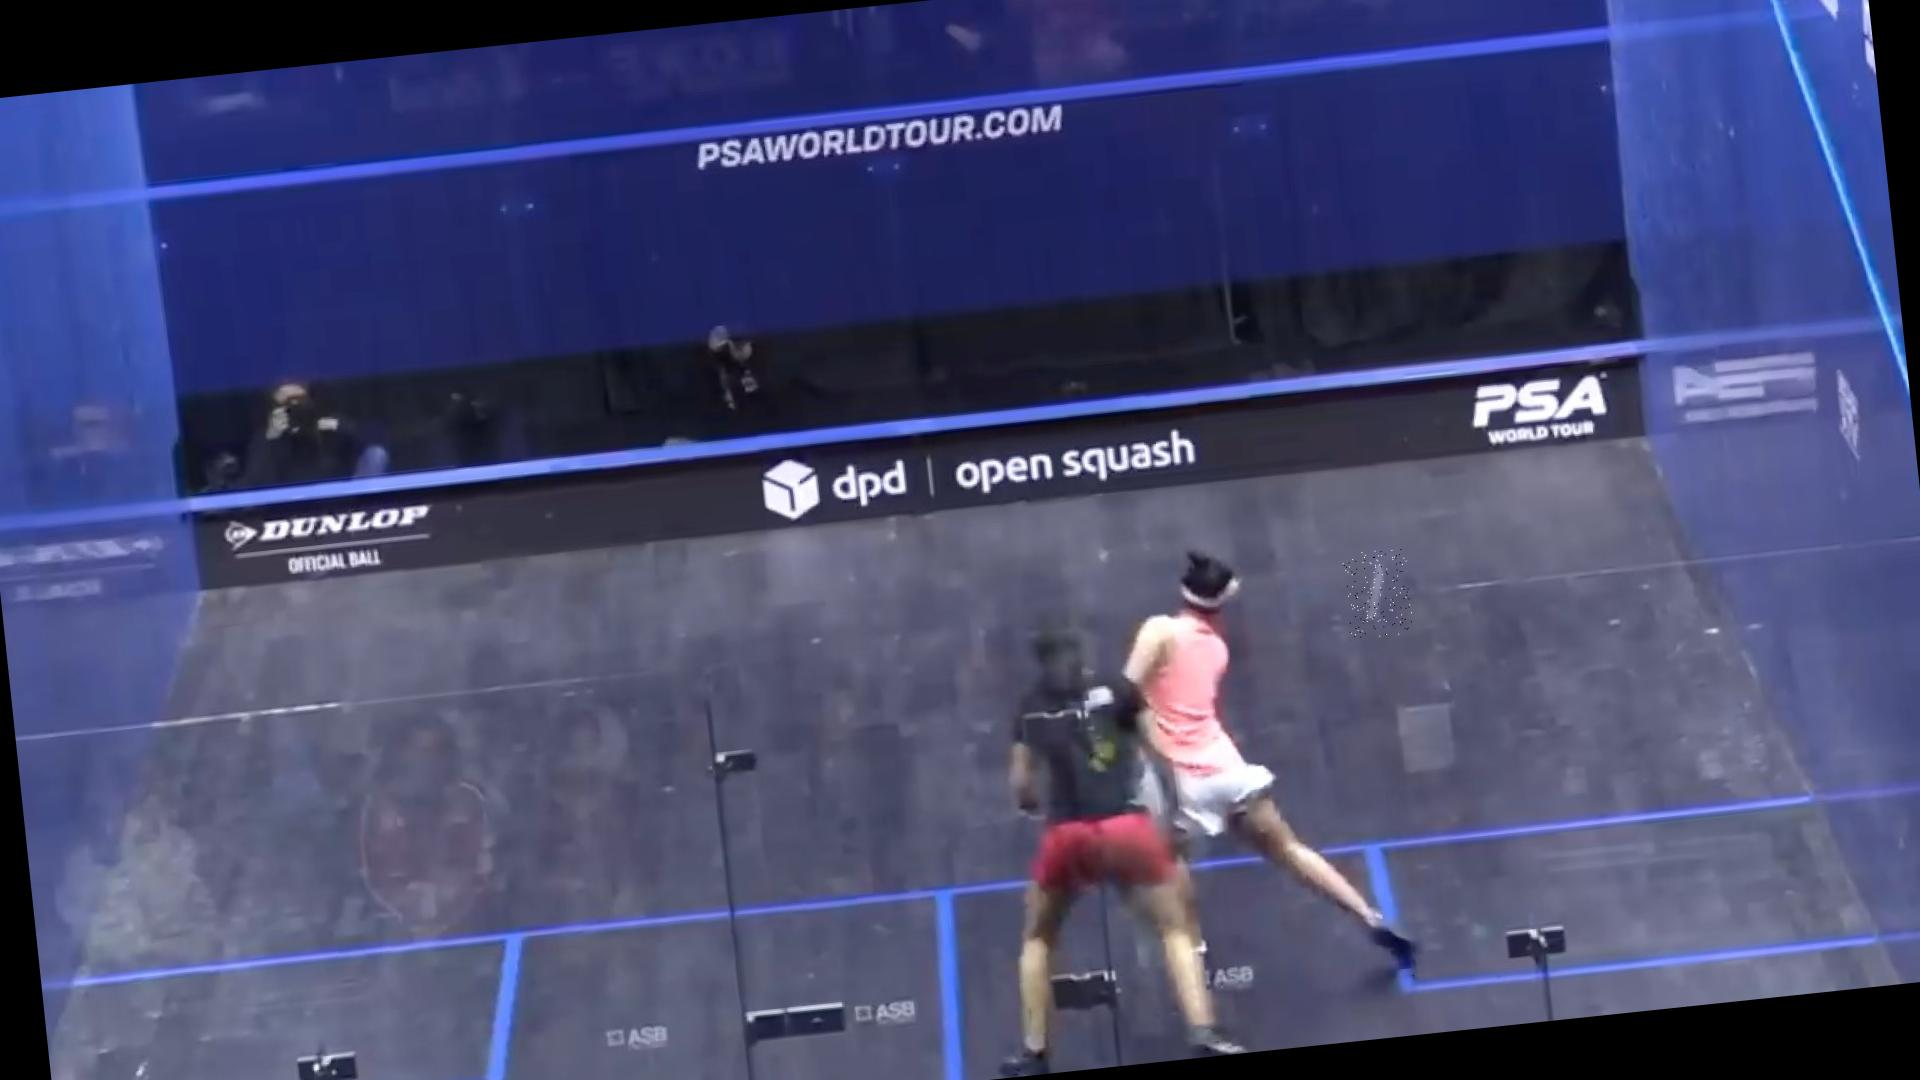Squash-Ball: (1341, 547, 1415, 640)
